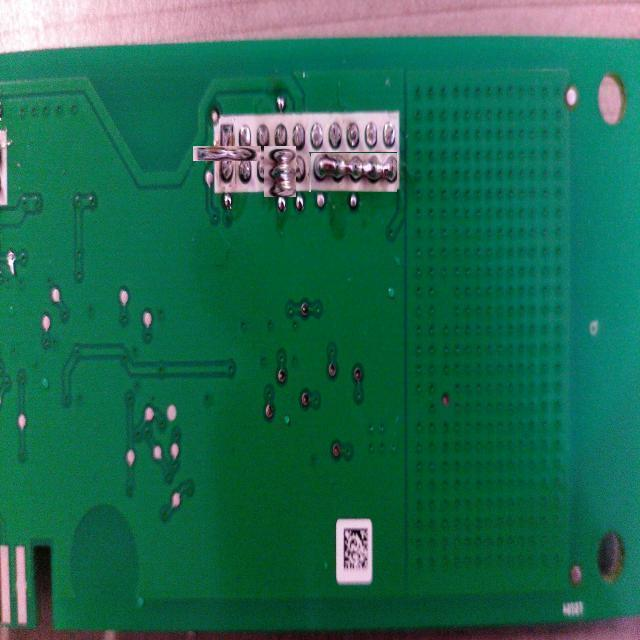Short_circuit: (310, 152, 398, 192), (258, 150, 300, 192), (206, 132, 248, 174)
